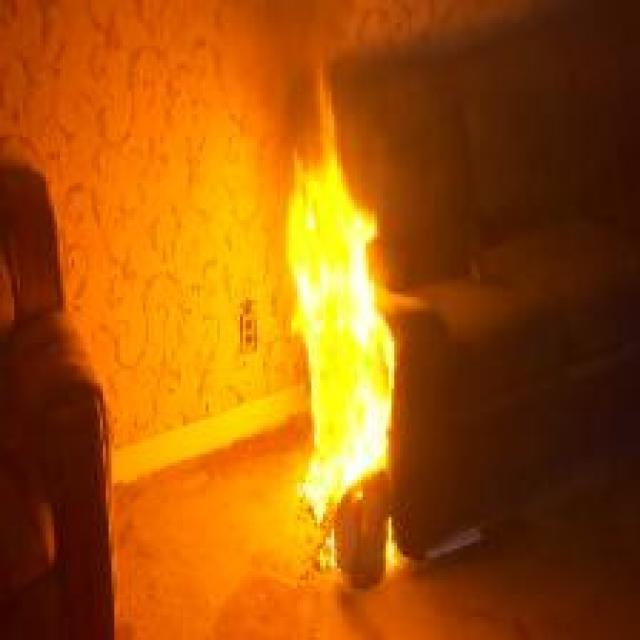Fire: (286, 152, 394, 524)
